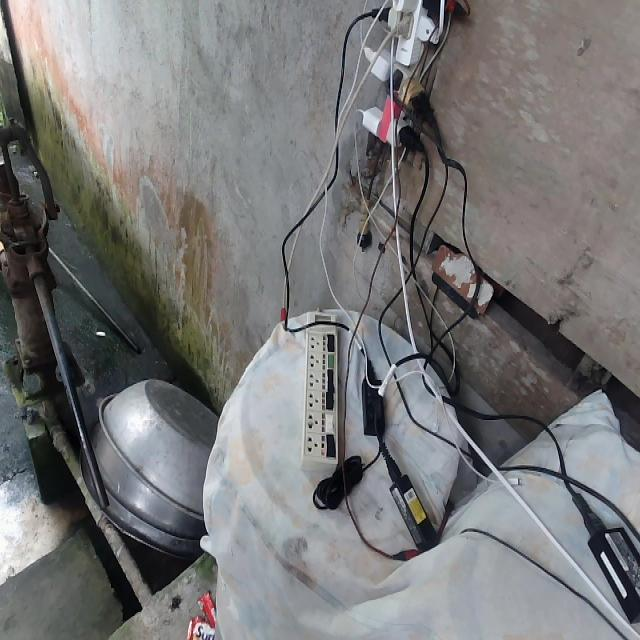-: (357, 0, 441, 149)
